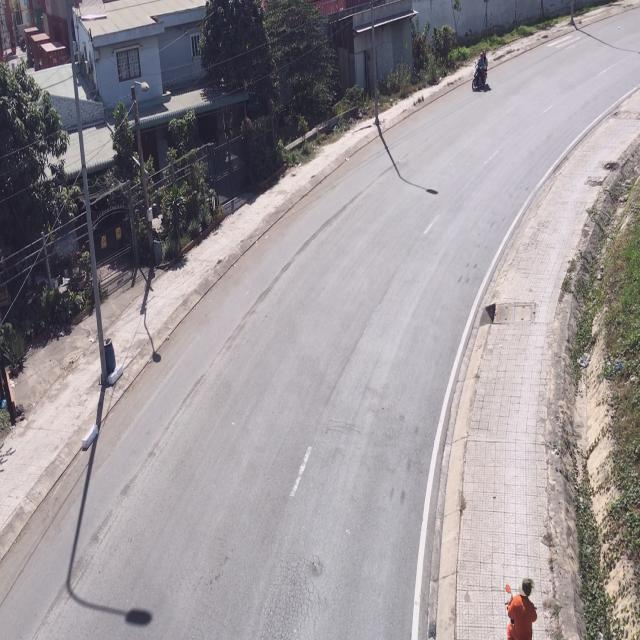motorbike: (503, 579, 536, 640), (470, 51, 490, 95)
